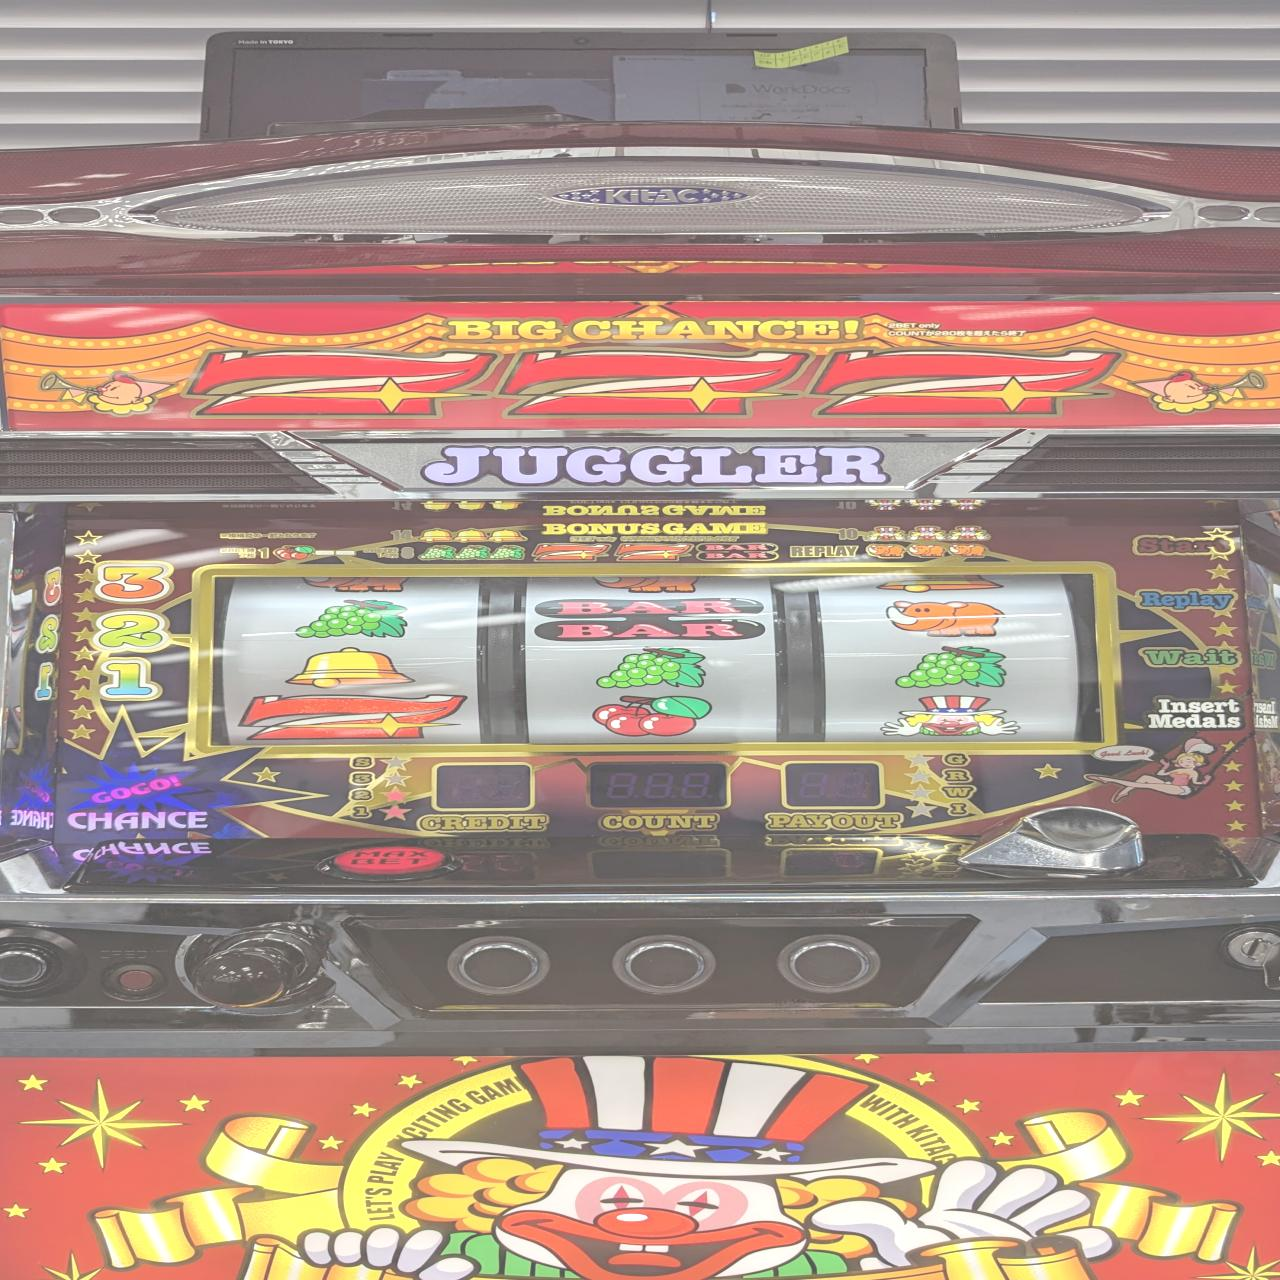7: (234, 694, 474, 742)
Display: (202, 566, 1114, 750)
bar: (527, 595, 765, 641)
bell: (286, 648, 420, 688)
cherry: (591, 694, 714, 738)
clown: (879, 695, 1024, 736)
grape: (892, 644, 1013, 692), (593, 646, 708, 688), (294, 598, 410, 639)
rhino: (885, 599, 1006, 638)
